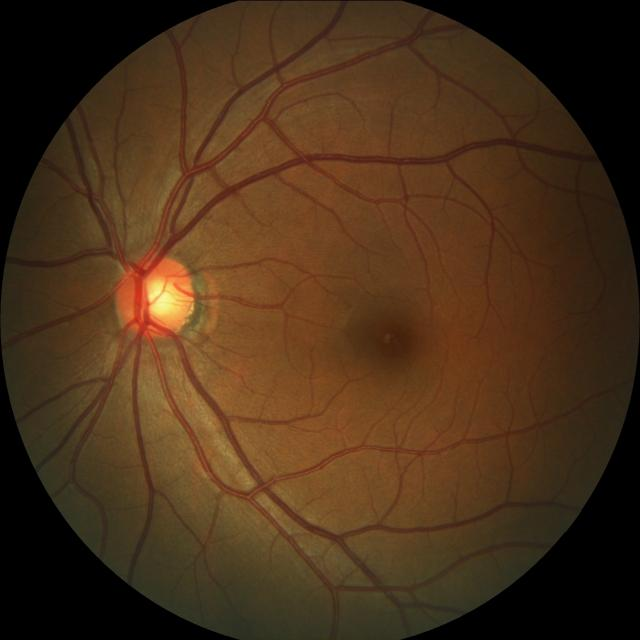OC: (134, 272, 180, 322)
OD: (113, 253, 193, 340)
